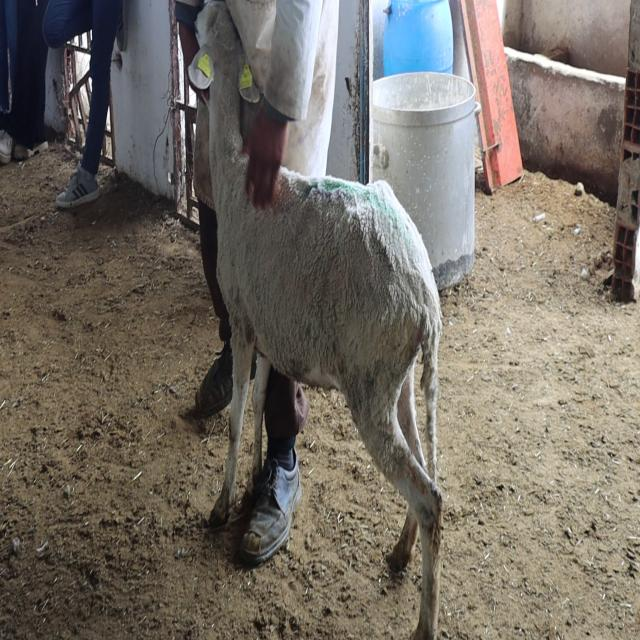Score_1: (188, 0, 442, 639)
